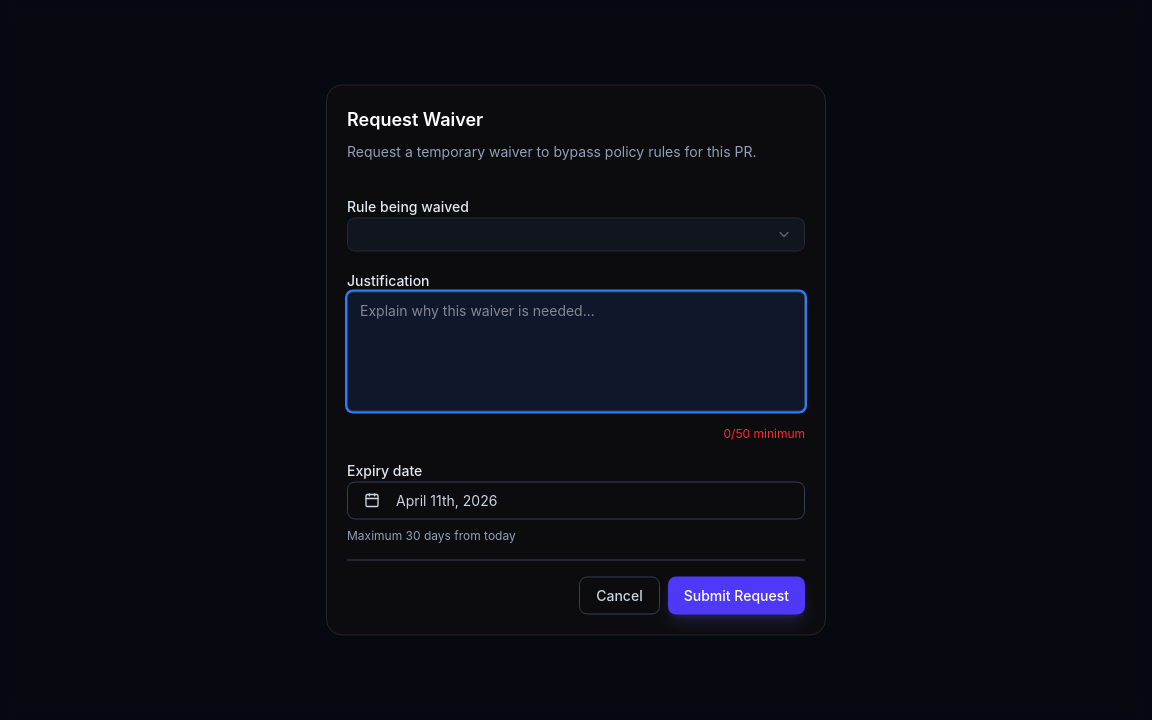
WaiverModal › Client-side validation › shows validation error when rule_ids is empty
Click the button "Submit Request" at (736, 596), box [668,576,805,614]
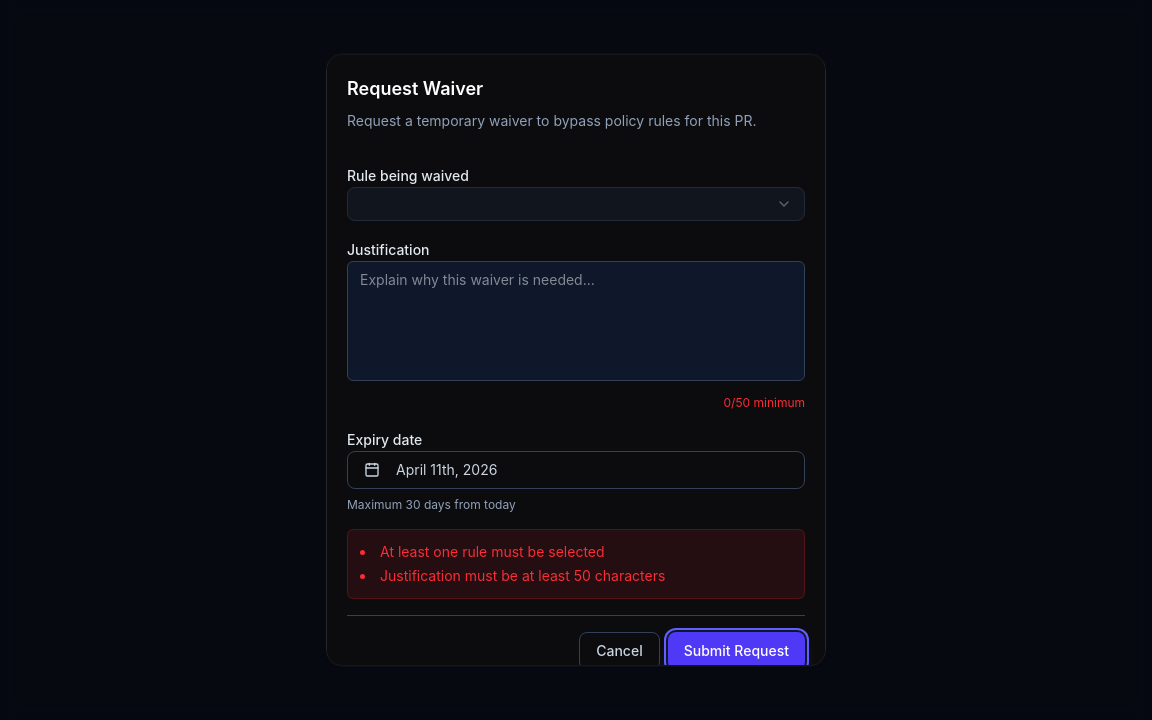
Expected: the list item "At least one rule must be selected" is shown, [380,543,605,560]
